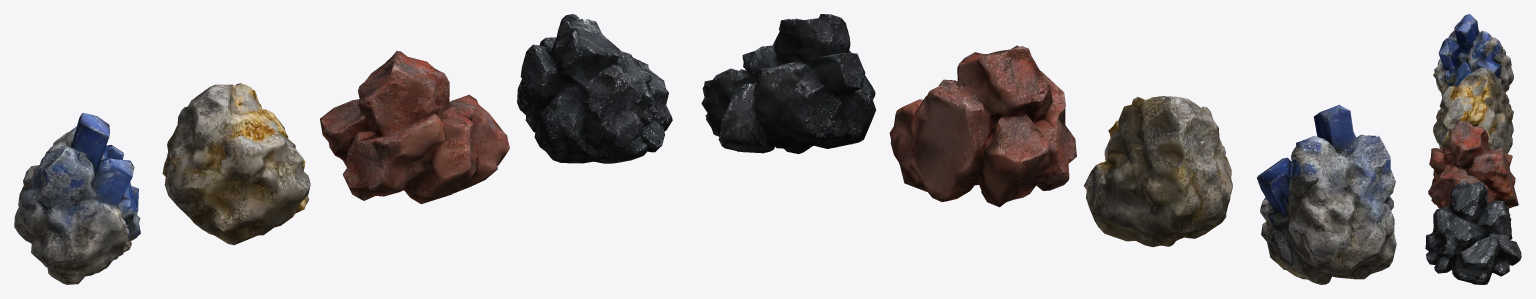
The model's file is rocks_ore.glb.
The picture shows the model from 3 angles, left to right: view 1: azimuth 30°, elevation 25°; view 2: azimuth 150°, elevation 25°; view 3: azimuth 270°, elevation 25°; orthographic projection. The views are drawn at different scales.
Parts seen in each view (by area): view 1: iron, gold, coal, crystal_blue; view 2: iron, crystal_blue, coal, gold; view 3: coal, iron, gold, crystal_blue.
Part boxes in pixels (bbox=[...]): iron: bbox=[320, 51, 509, 204]; gold: bbox=[162, 83, 310, 245]; coal: bbox=[517, 14, 672, 163]; crystal_blue: bbox=[14, 113, 140, 284]; iron: bbox=[889, 45, 1076, 207]; crystal_blue: bbox=[1257, 104, 1396, 284]; coal: bbox=[701, 14, 875, 153]; gold: bbox=[1084, 96, 1232, 246]; coal: bbox=[1425, 181, 1521, 284]; iron: bbox=[1428, 120, 1518, 208]; gold: bbox=[1433, 67, 1513, 153]; crystal_blue: bbox=[1433, 14, 1513, 97].
Bounding box in the file's own units: 1.19 × 0.2801 × 0.2508.
Materials: 1 (1 with a texture image).
